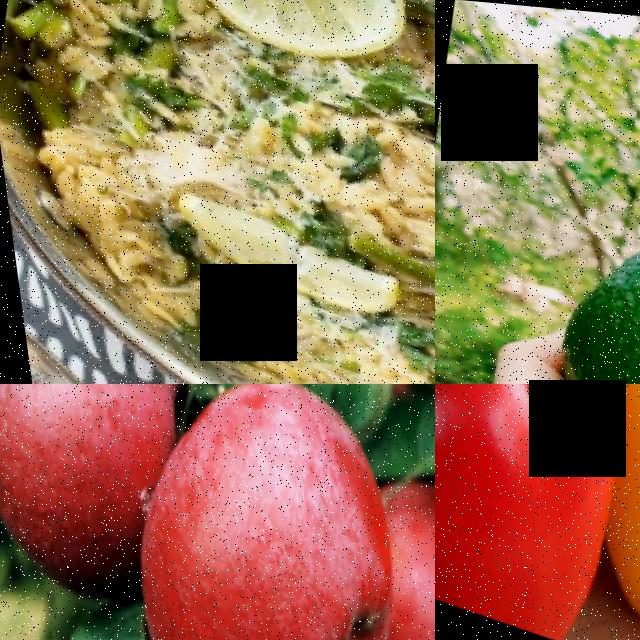apple: (67, 384, 435, 640), (0, 384, 213, 596), (316, 464, 435, 640)
avocado: (505, 186, 640, 384)
bell pepper: (435, 384, 640, 640), (567, 384, 640, 640)
